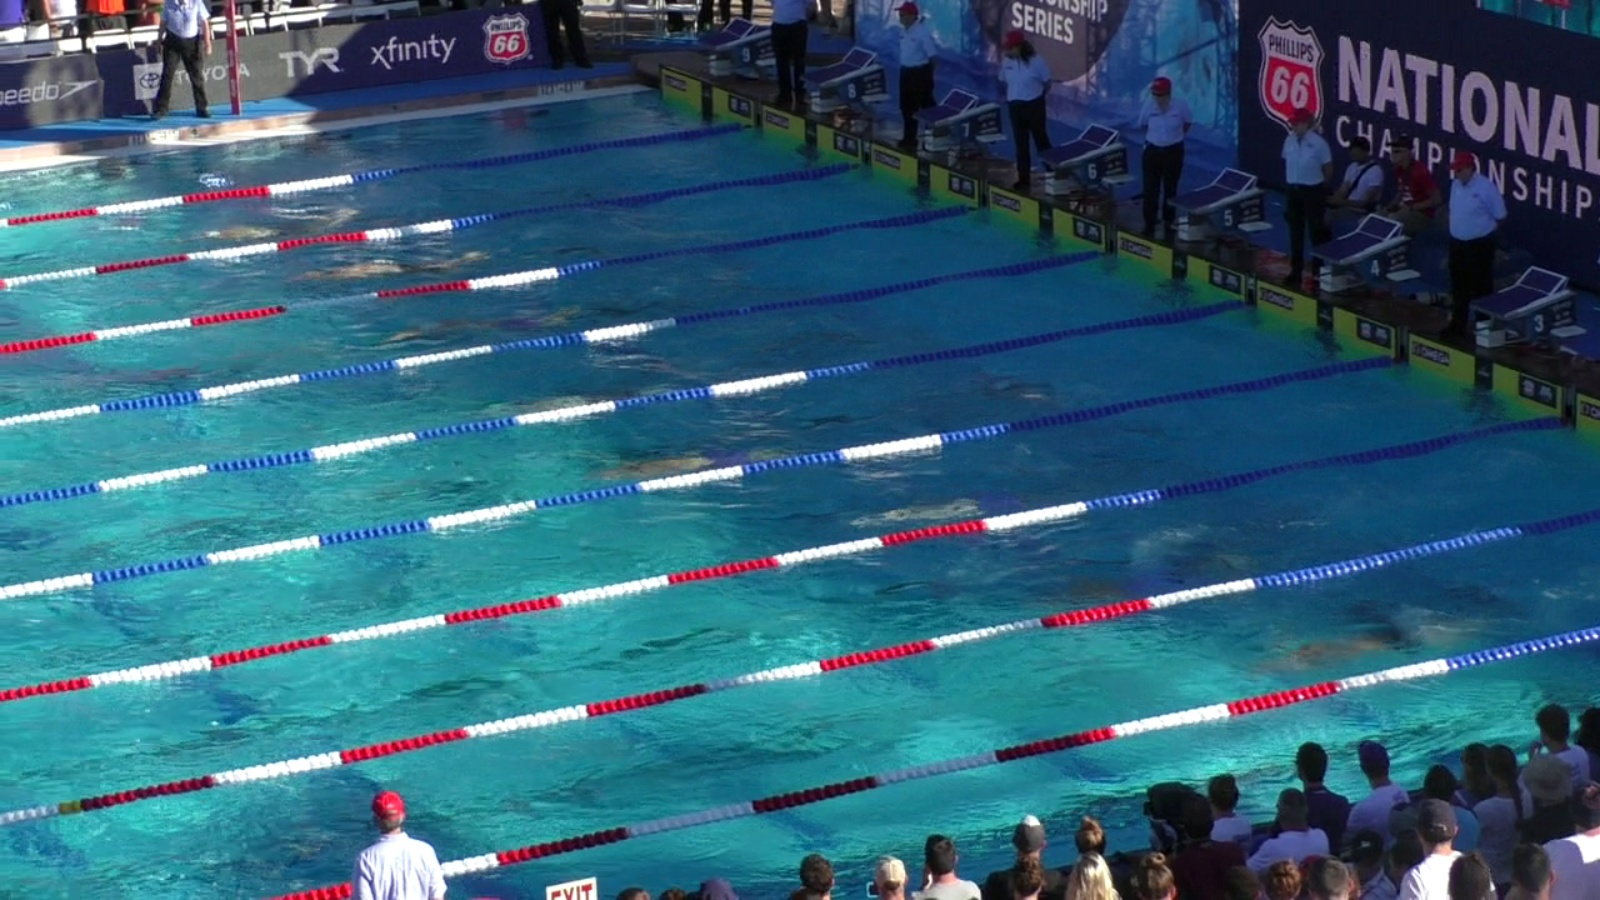swimmerw: (1245, 612, 1446, 684), (598, 429, 822, 491), (1073, 545, 1266, 611), (838, 485, 1035, 540), (390, 308, 562, 348), (195, 207, 363, 244), (295, 249, 490, 281), (495, 381, 642, 416)
